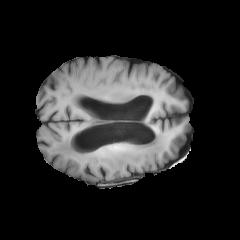glioma: (50, 135, 165, 178)
